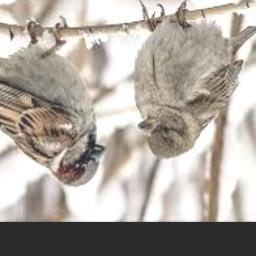Sparrow: (133, 0, 256, 160), (0, 16, 106, 188)
